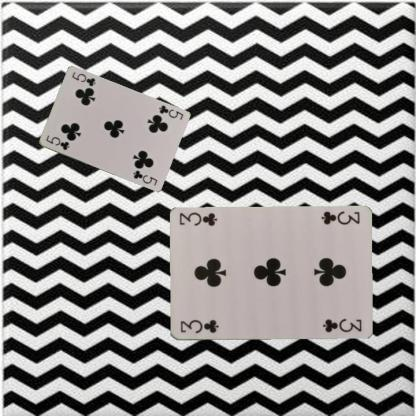3c: (318, 208, 361, 226), (178, 317, 220, 335)
5c: (43, 132, 70, 152), (156, 102, 184, 121)
